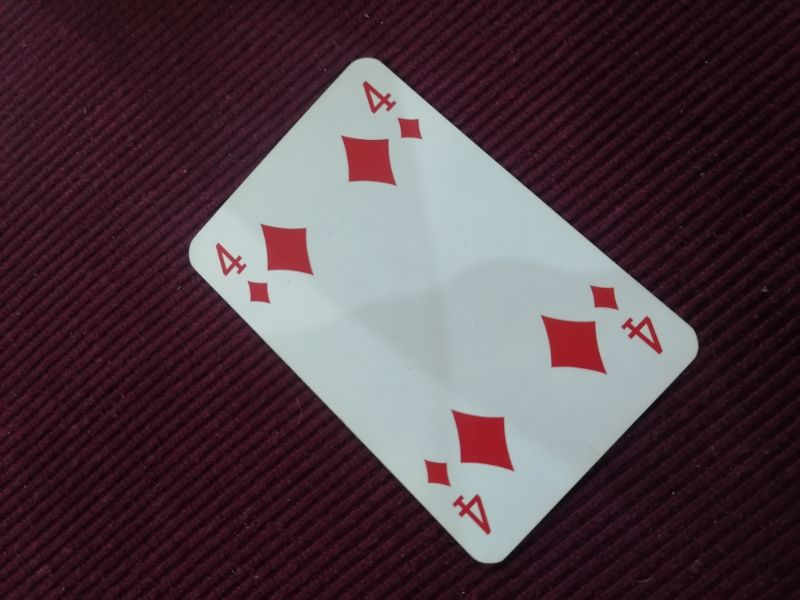4d: (420, 455, 496, 540), (586, 279, 667, 358), (356, 77, 424, 142), (210, 240, 274, 308)
